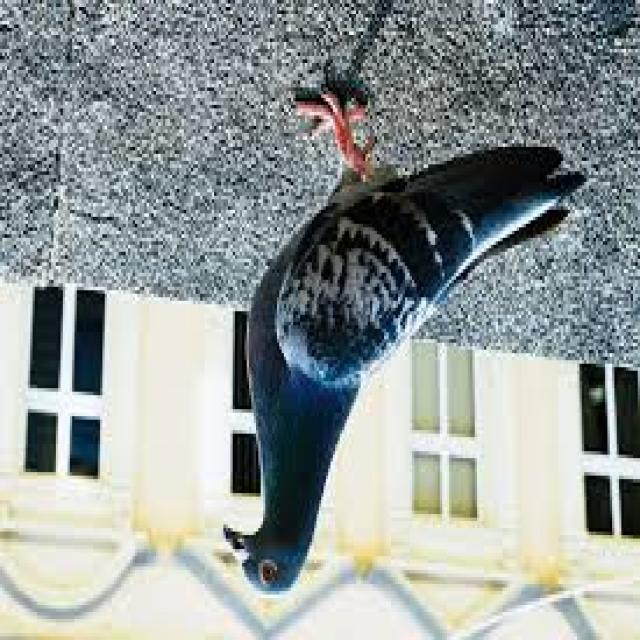pigeon: (210, 79, 596, 607)
